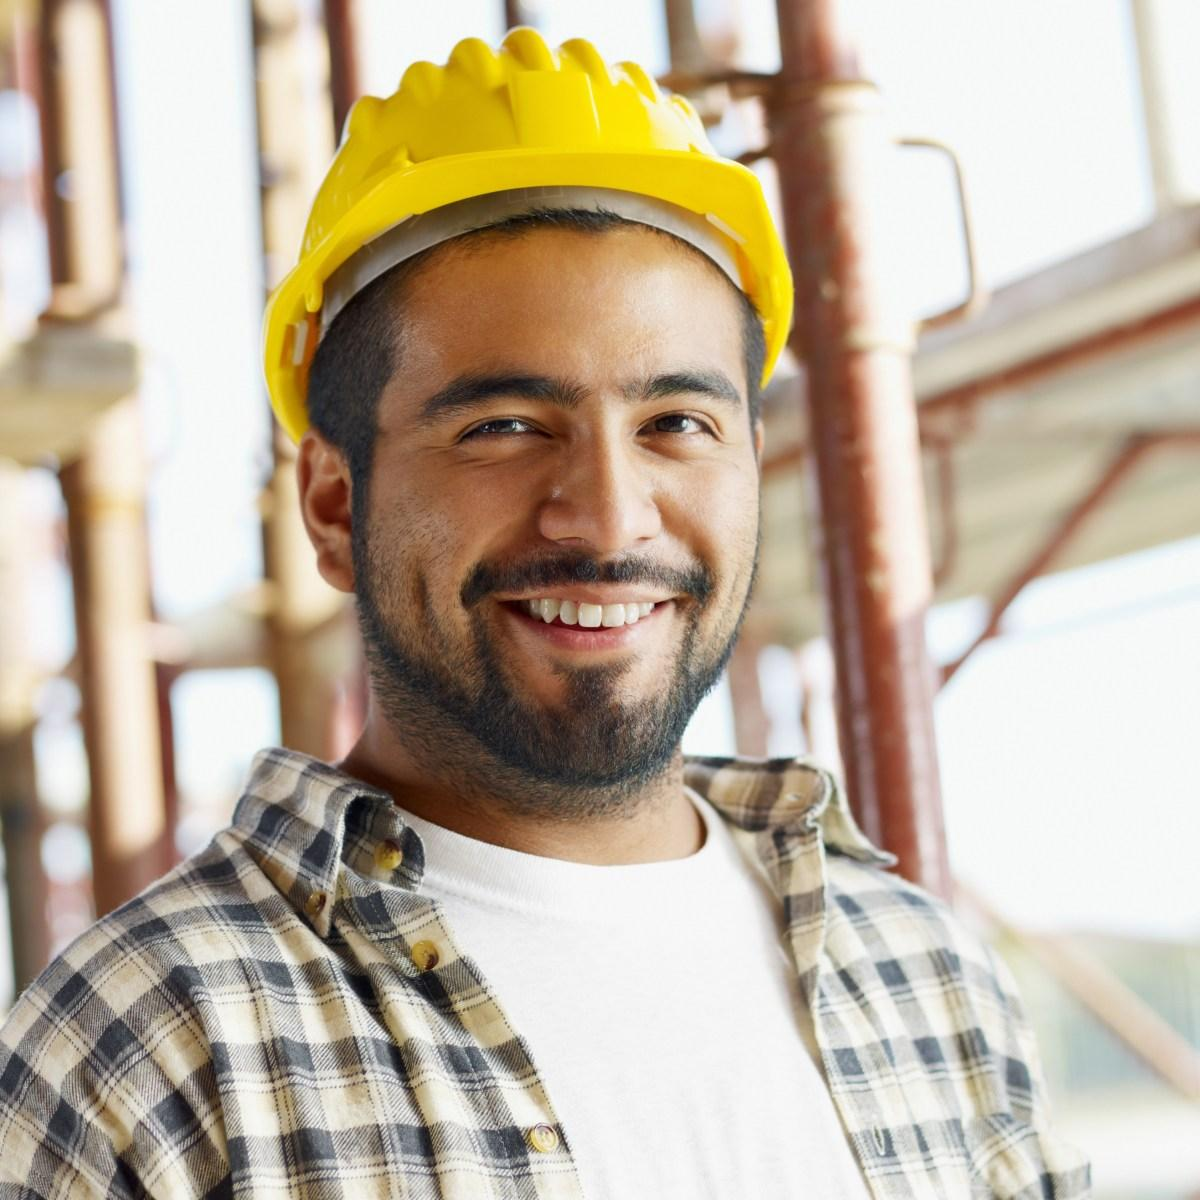helmet: (262, 22, 799, 447)
